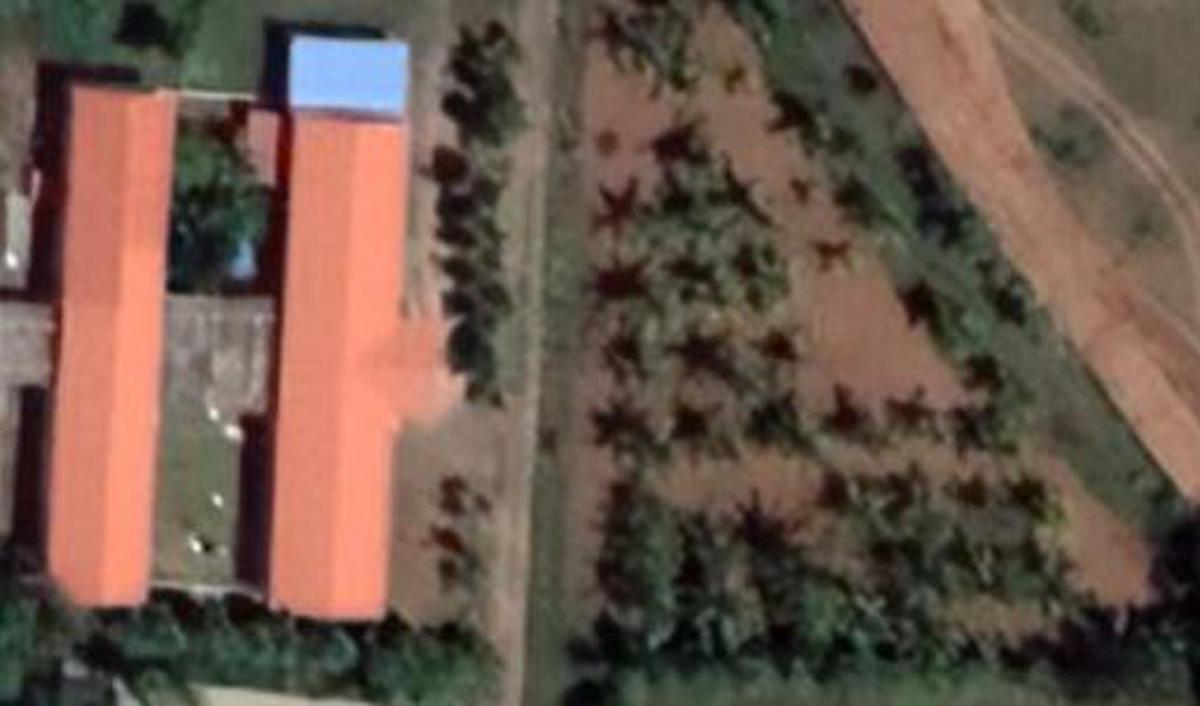coconut: (661, 175, 743, 243), (734, 240, 807, 313), (666, 233, 736, 306), (757, 390, 823, 467), (680, 399, 748, 472), (605, 416, 676, 481), (725, 353, 790, 413), (619, 310, 676, 376), (638, 215, 699, 264), (853, 411, 907, 451)
